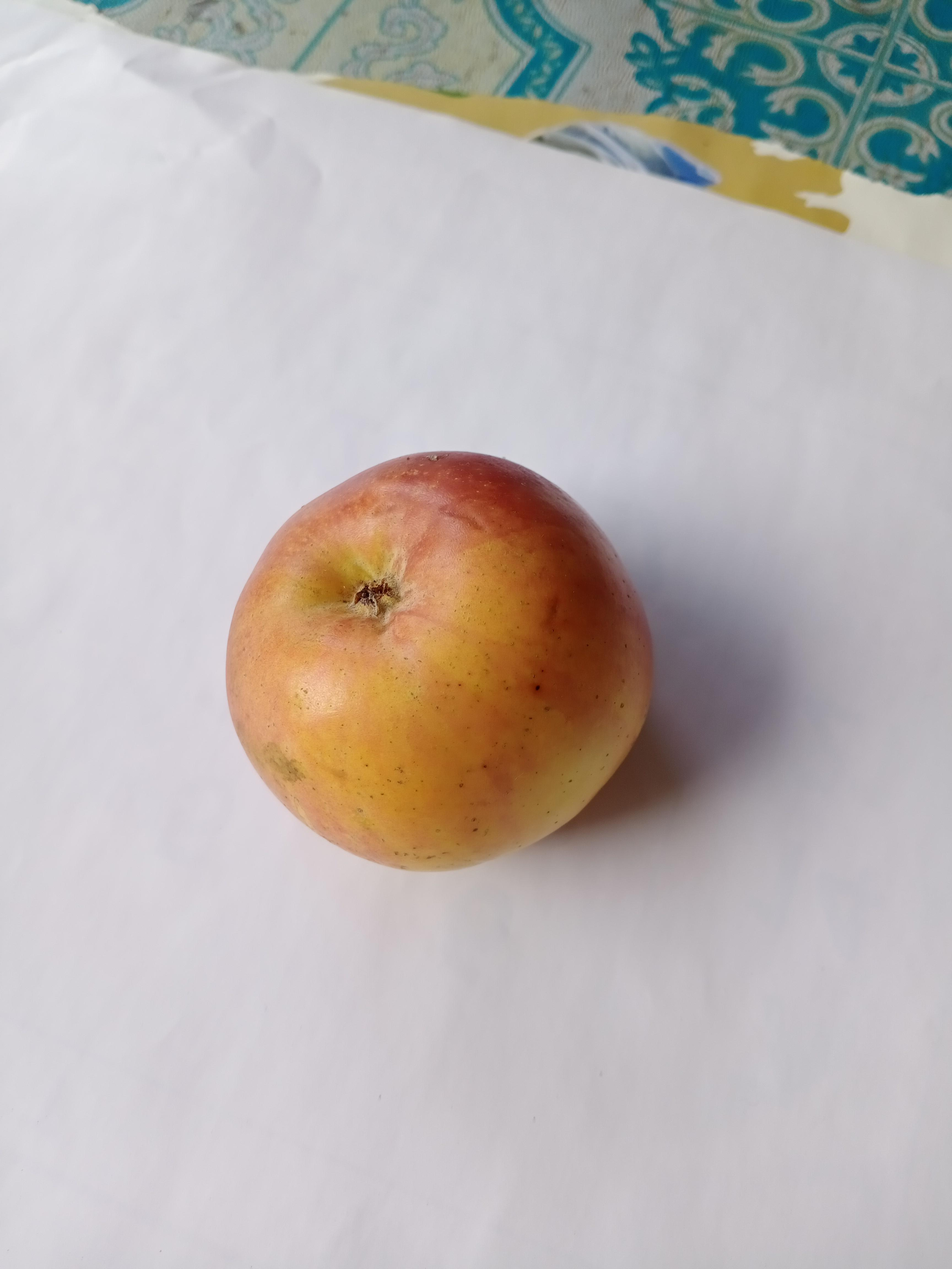Apple Ripe: (185, 430, 681, 892)
